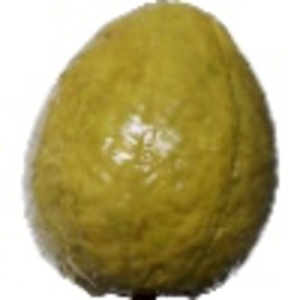goiaba: (8, 3, 288, 293)
